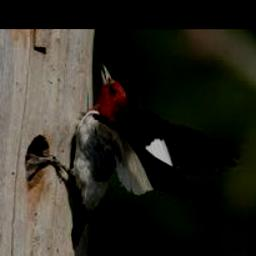Woodpecker: (27, 63, 237, 248)
